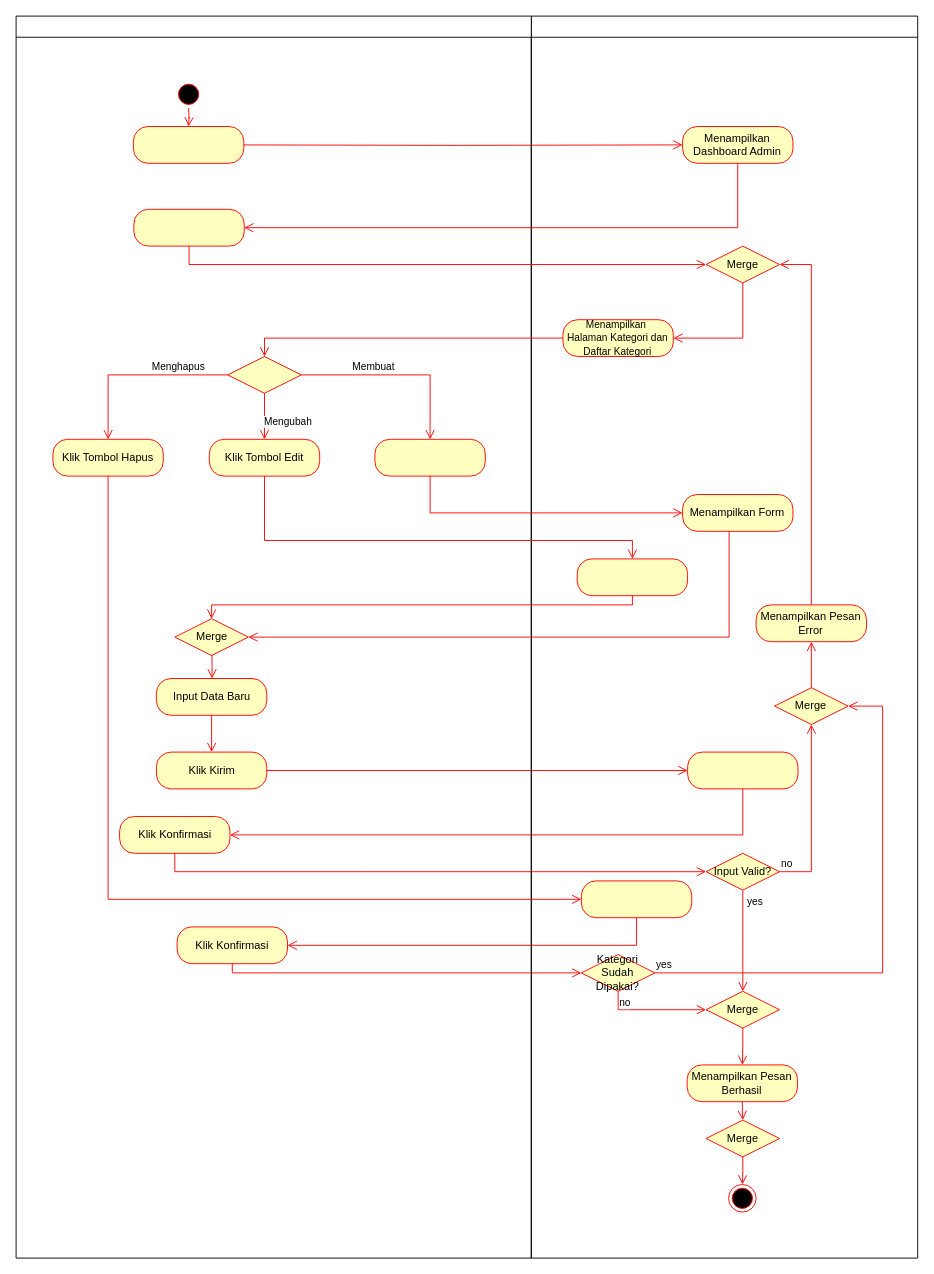
Some shapes in this 934 by 1274 pixel diagram are drawn without their labels. Here are the shapes that lost their labels. From the top down, the box of each, then its label:
(132, 126, 244, 163): Login
(133, 208, 244, 246): Klik Menu Kategori
(227, 356, 301, 393): Kegiatan?
(374, 438, 485, 476): Klik Tombol Tambah Kategori
(576, 558, 688, 596): Menampilkan Form Dengan Data
(15, 15, 531, 1258): Admin
(530, 15, 918, 1258): Sistem
(687, 751, 798, 789): Menampilkan Konfirmasi
(580, 880, 692, 918): Menampilakan Pesan Konfirmasi
